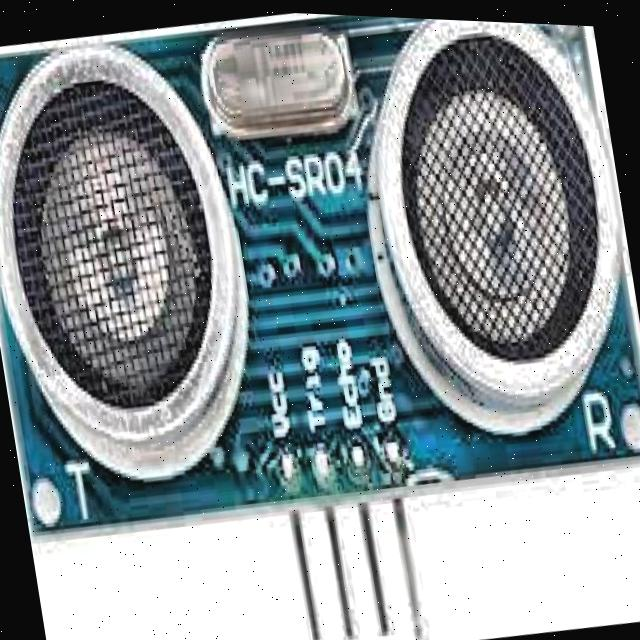Ultrasonic Sensor: (0, 11, 640, 640)
